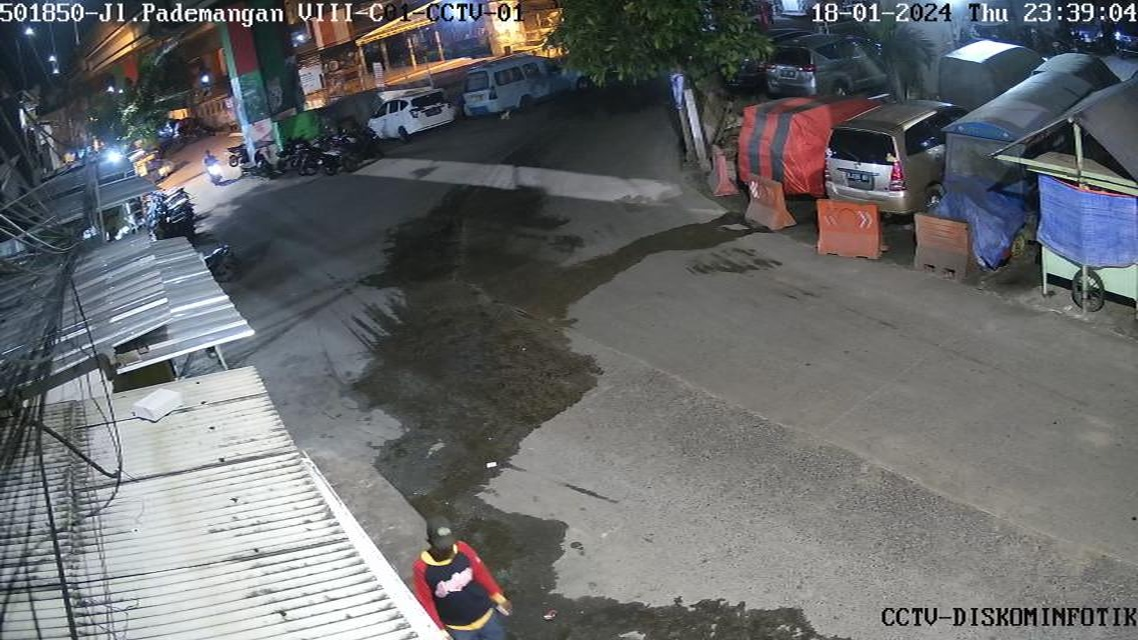Terpal: (1028, 173, 1133, 260), (738, 104, 821, 185)
